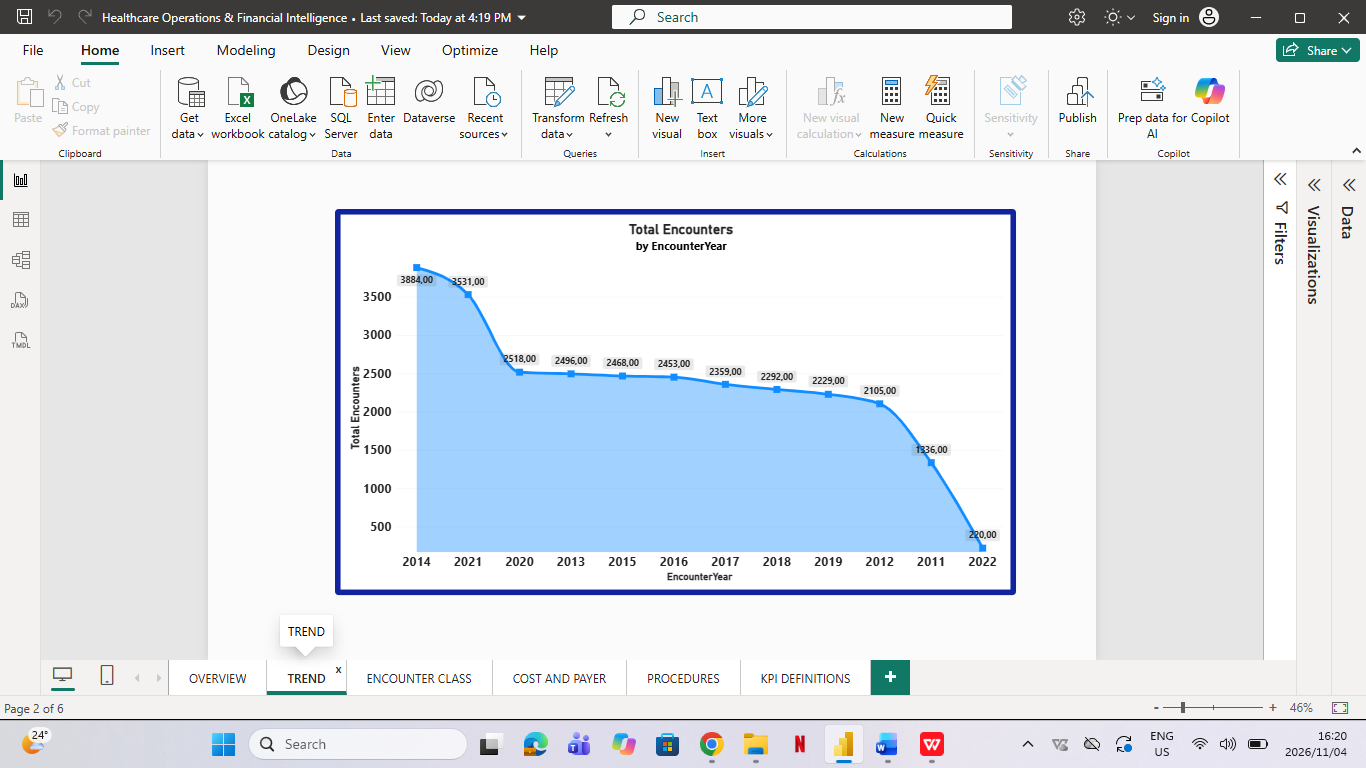

What the dashboard file says about the page in this screenshot:
{"tool":"powerbi","page":{"name":"TREND","canvas":[1920,1080],"ordinal":1},"visuals":[{"type":"lineChart","fields":{"Category":["encounters.EncounterYear"],"Y":["encounters.Total Encounters"]},"box":[274.6,105.8,1471.5,834],"z":0}]}

Visuals, with their boxes on the page's 1920x1080 design canvas (x1, y1, x2, y2). These are canvas units, not pixel positions in the 1366x768 screenshot, which may show the page scaled, cropped or inside an application window:
lineChart - encounters.EncounterYear x encounters.Total Encounters: left=275, top=106, right=1746, bottom=940
